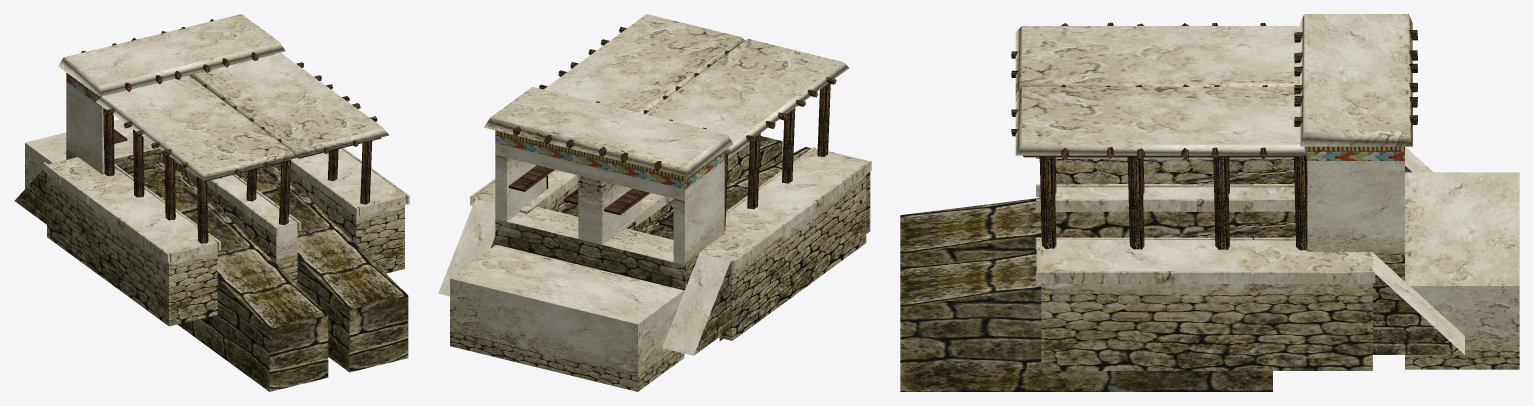
File: mycenae_dock.dae
3 renders of one model, left to right at view 1: azimuth 30°, elevation 25°; view 2: azimuth 150°, elevation 25°; view 3: azimuth 270°, elevation 25°, orthographic. The views are drawn at different scales.
Visible parts, largest first — view 1: Cube_015.002; view 2: Cube_015.002; view 3: Cube_015.002.
Part boxes in pixels (x1,y1,x2,y2): Cube_015.002: (14, 14, 409, 391); Cube_015.002: (438, 14, 871, 391); Cube_015.002: (900, 14, 1519, 391).
Bounding box in the file's own units: 22.81 × 37.28 × 18.18.
